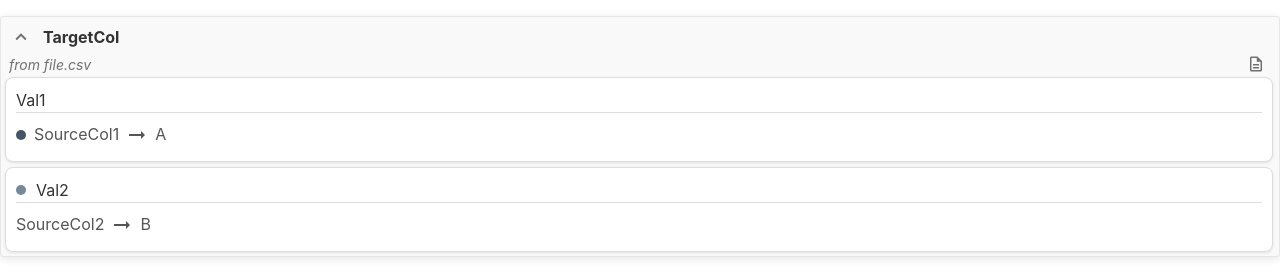
<MappingHierarchy /> › opens and closes metadata popper
The width and height of the screenshot is (1280, 277).
Click the button titled "Show metadata for TargetCol".
click(1256, 64)  # box [1245, 53, 1267, 75]
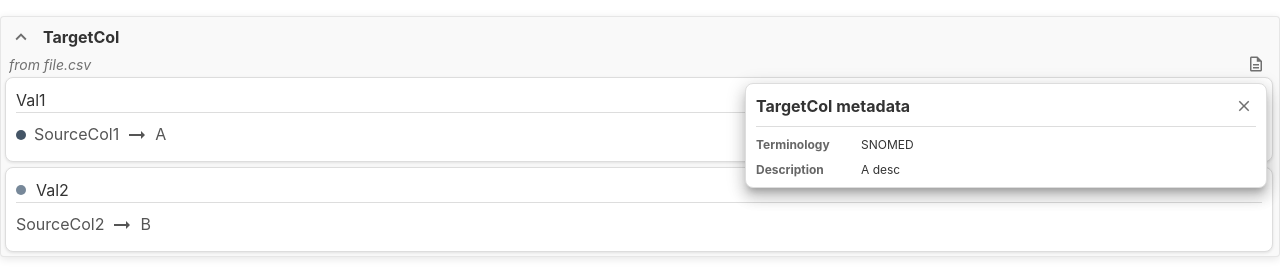
Result: the text "SNOMED" is shown at [861, 137, 914, 152]
Result: the text "A desc" is shown at [861, 162, 900, 177]
